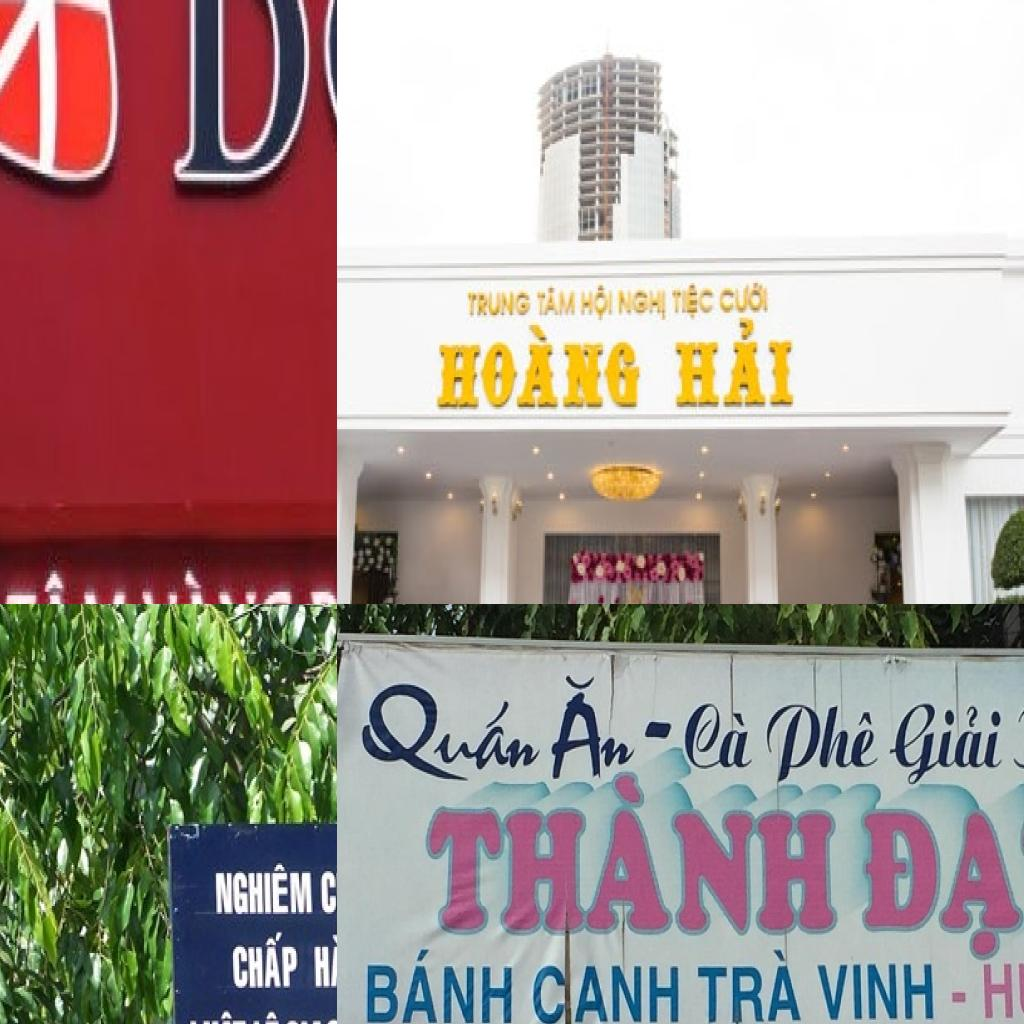text: (424, 774, 838, 938), (168, 0, 337, 326), (858, 807, 1024, 959), (431, 318, 651, 414), (360, 680, 540, 792), (364, 944, 516, 1024), (674, 315, 799, 412), (881, 700, 1004, 791), (546, 672, 636, 782), (766, 698, 880, 784), (529, 963, 681, 1024), (695, 944, 804, 1024), (813, 961, 934, 1024), (679, 697, 758, 779), (212, 861, 318, 920), (135, 567, 302, 604), (2, 560, 134, 604), (227, 928, 304, 996), (978, 929, 1024, 1021), (464, 288, 535, 322), (616, 286, 671, 328), (670, 280, 716, 325), (718, 280, 772, 318), (310, 926, 337, 993), (535, 283, 580, 320), (580, 283, 616, 327), (316, 852, 337, 920), (185, 1008, 251, 1024), (642, 715, 676, 742), (251, 1008, 285, 1024), (948, 990, 968, 1003)
